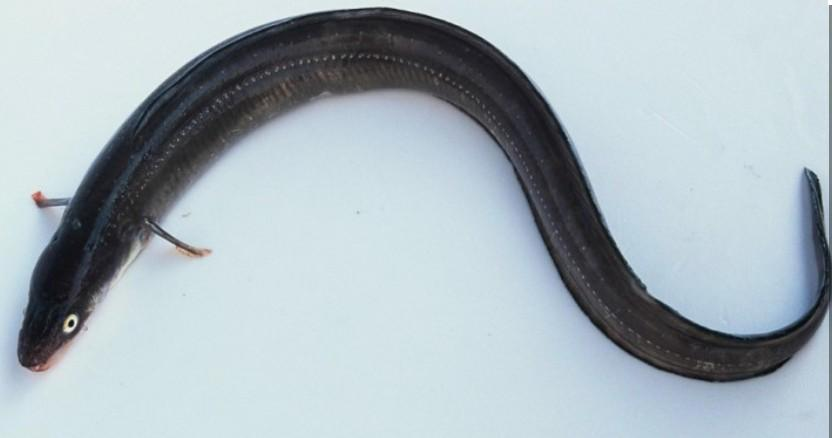fish: (17, 8, 831, 380)
